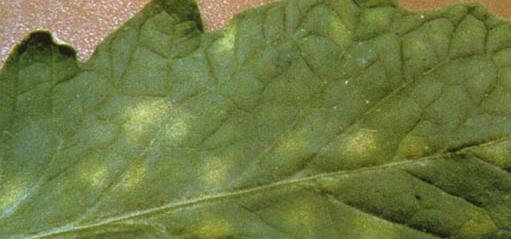Tomato mold leaf: (1, 0, 511, 239)
